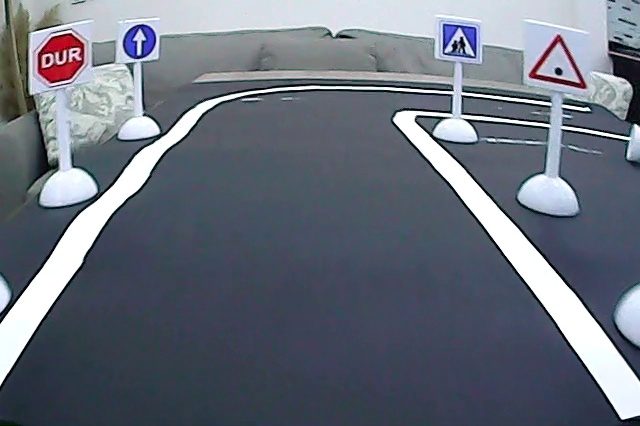green light: (525, 29, 590, 94)
school crossing: (438, 20, 480, 62)
stop sign: (33, 27, 90, 87)
